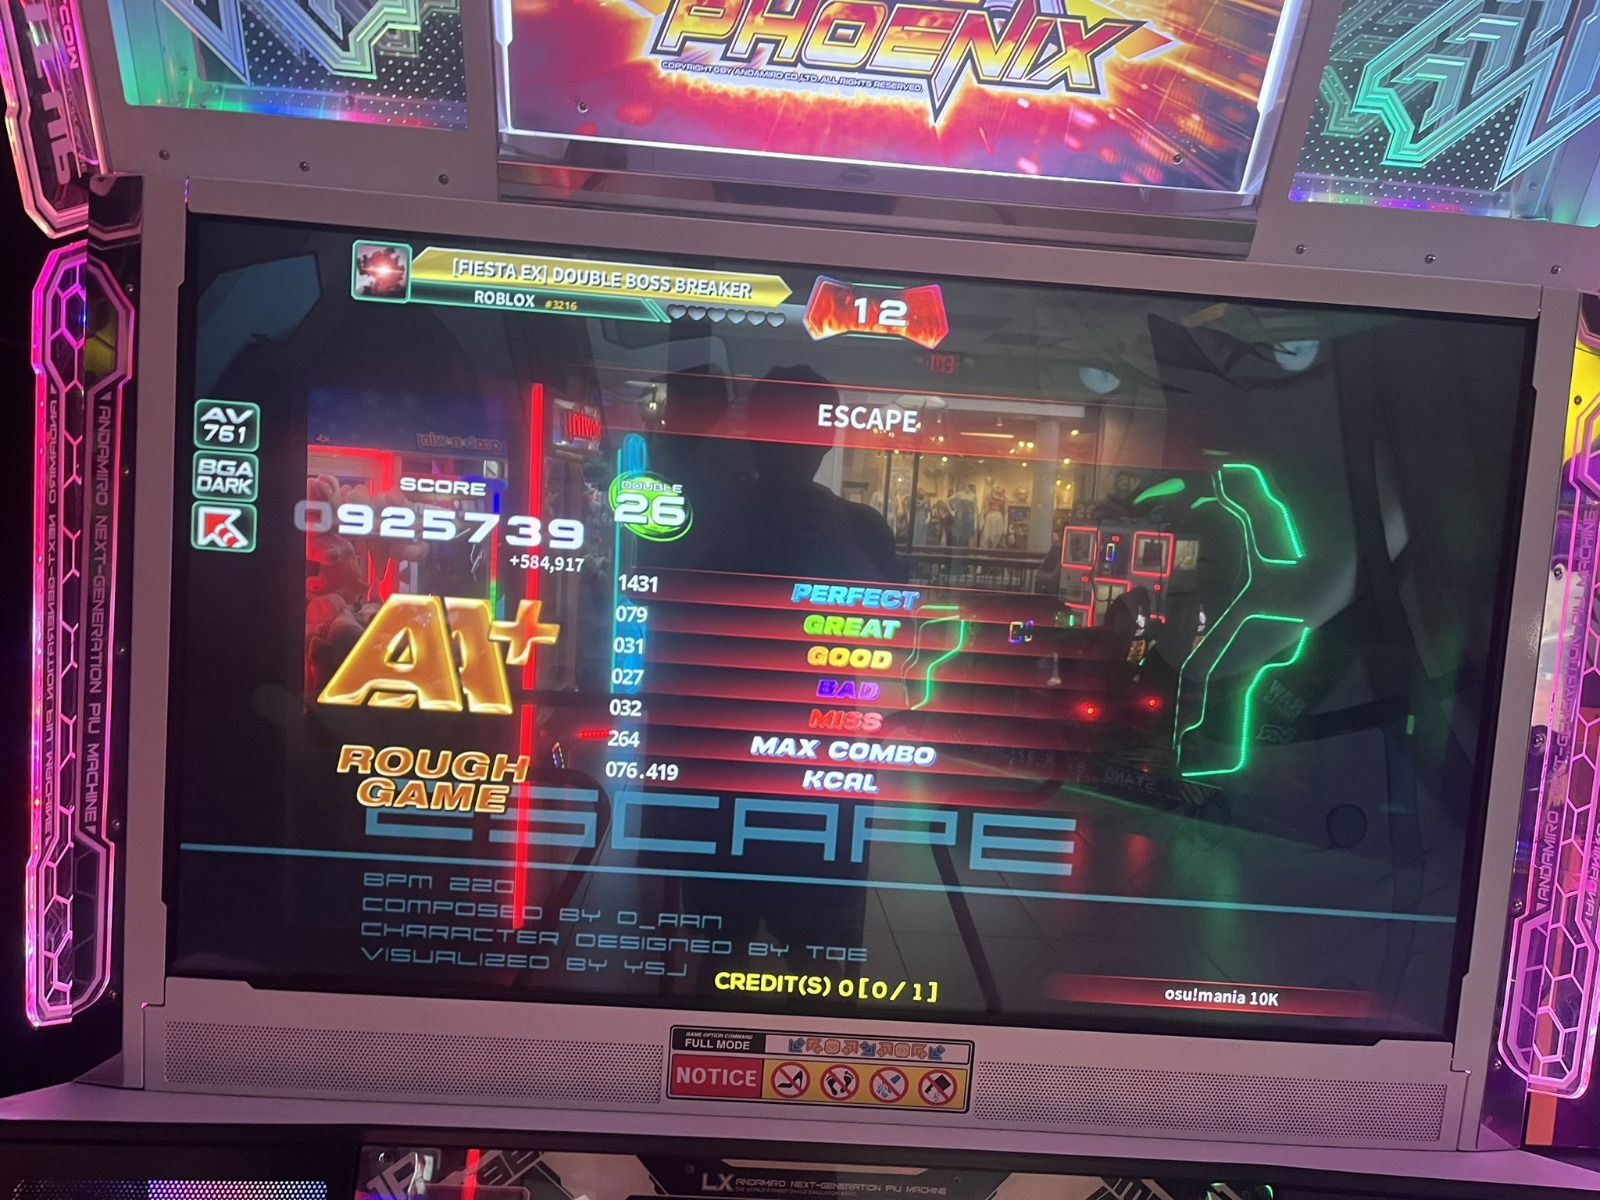difficulty: (614, 442, 703, 556)
fullscore: (189, 204, 1477, 1025)
rank: (334, 579, 547, 731)
score: (285, 434, 603, 551)
song_name: (712, 373, 1196, 458)
